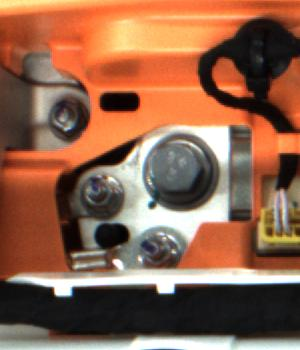nut_b: (144, 136, 217, 206)
screw_s: (130, 225, 175, 268), (78, 172, 118, 209), (46, 95, 80, 134)
